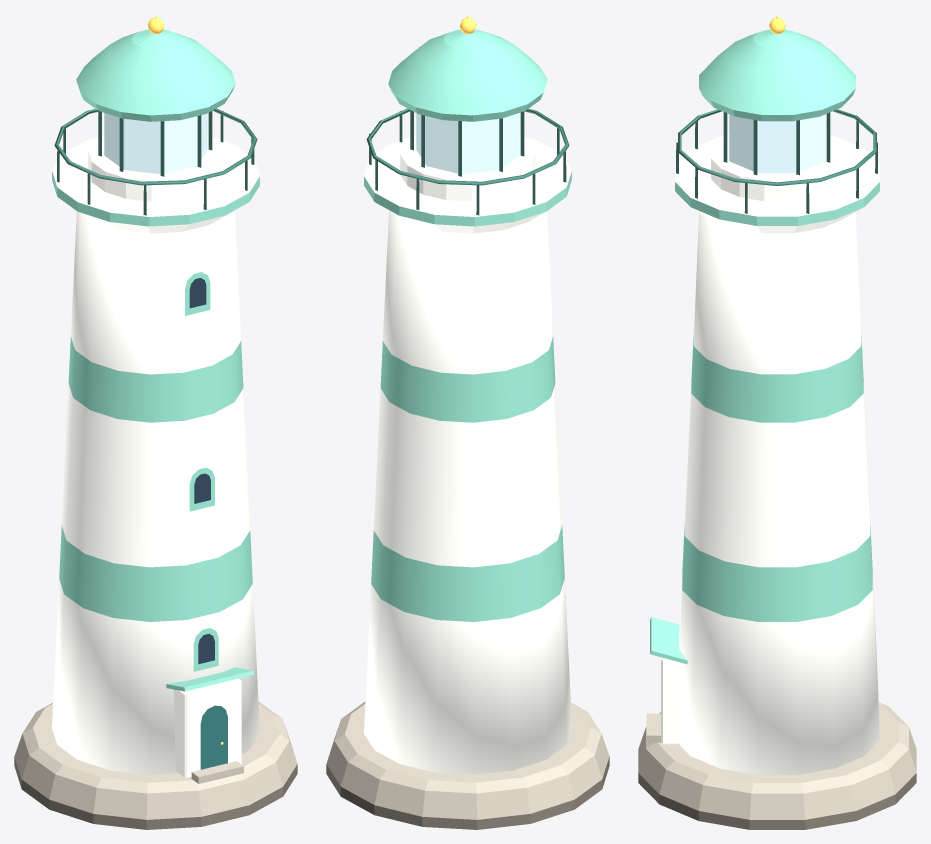
Rendered from lighthouse.glb.
3 renders of one model, left to right at view 1: azimuth 30°, elevation 25°; view 2: azimuth 150°, elevation 25°; view 3: azimuth 270°, elevation 25°, orthographic.
Visible parts, largest first — view 1: lighthouse; view 2: lighthouse; view 3: lighthouse.
Boxes of the visible parts, box(x1,y1,x2,y2) form: lighthouse: box(14, 15, 297, 829); lighthouse: box(326, 15, 609, 829); lighthouse: box(638, 14, 916, 829).
Size of the model in its own units: 8 by 24 by 8.
